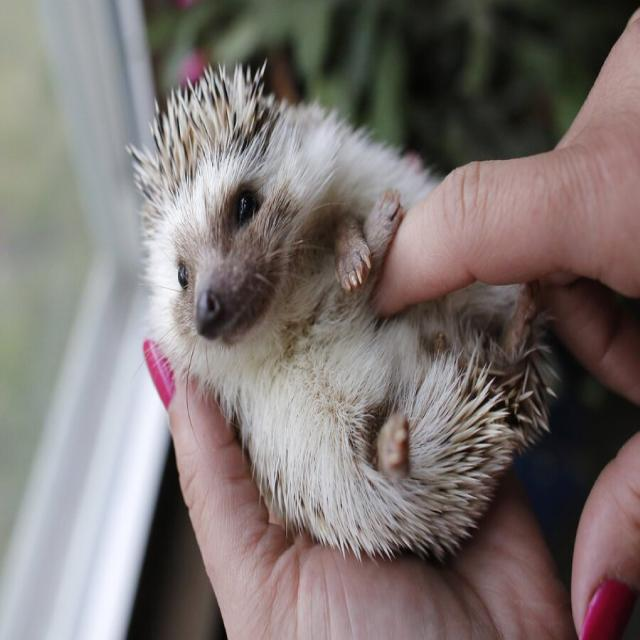Hedgehog: (130, 67, 553, 565)
